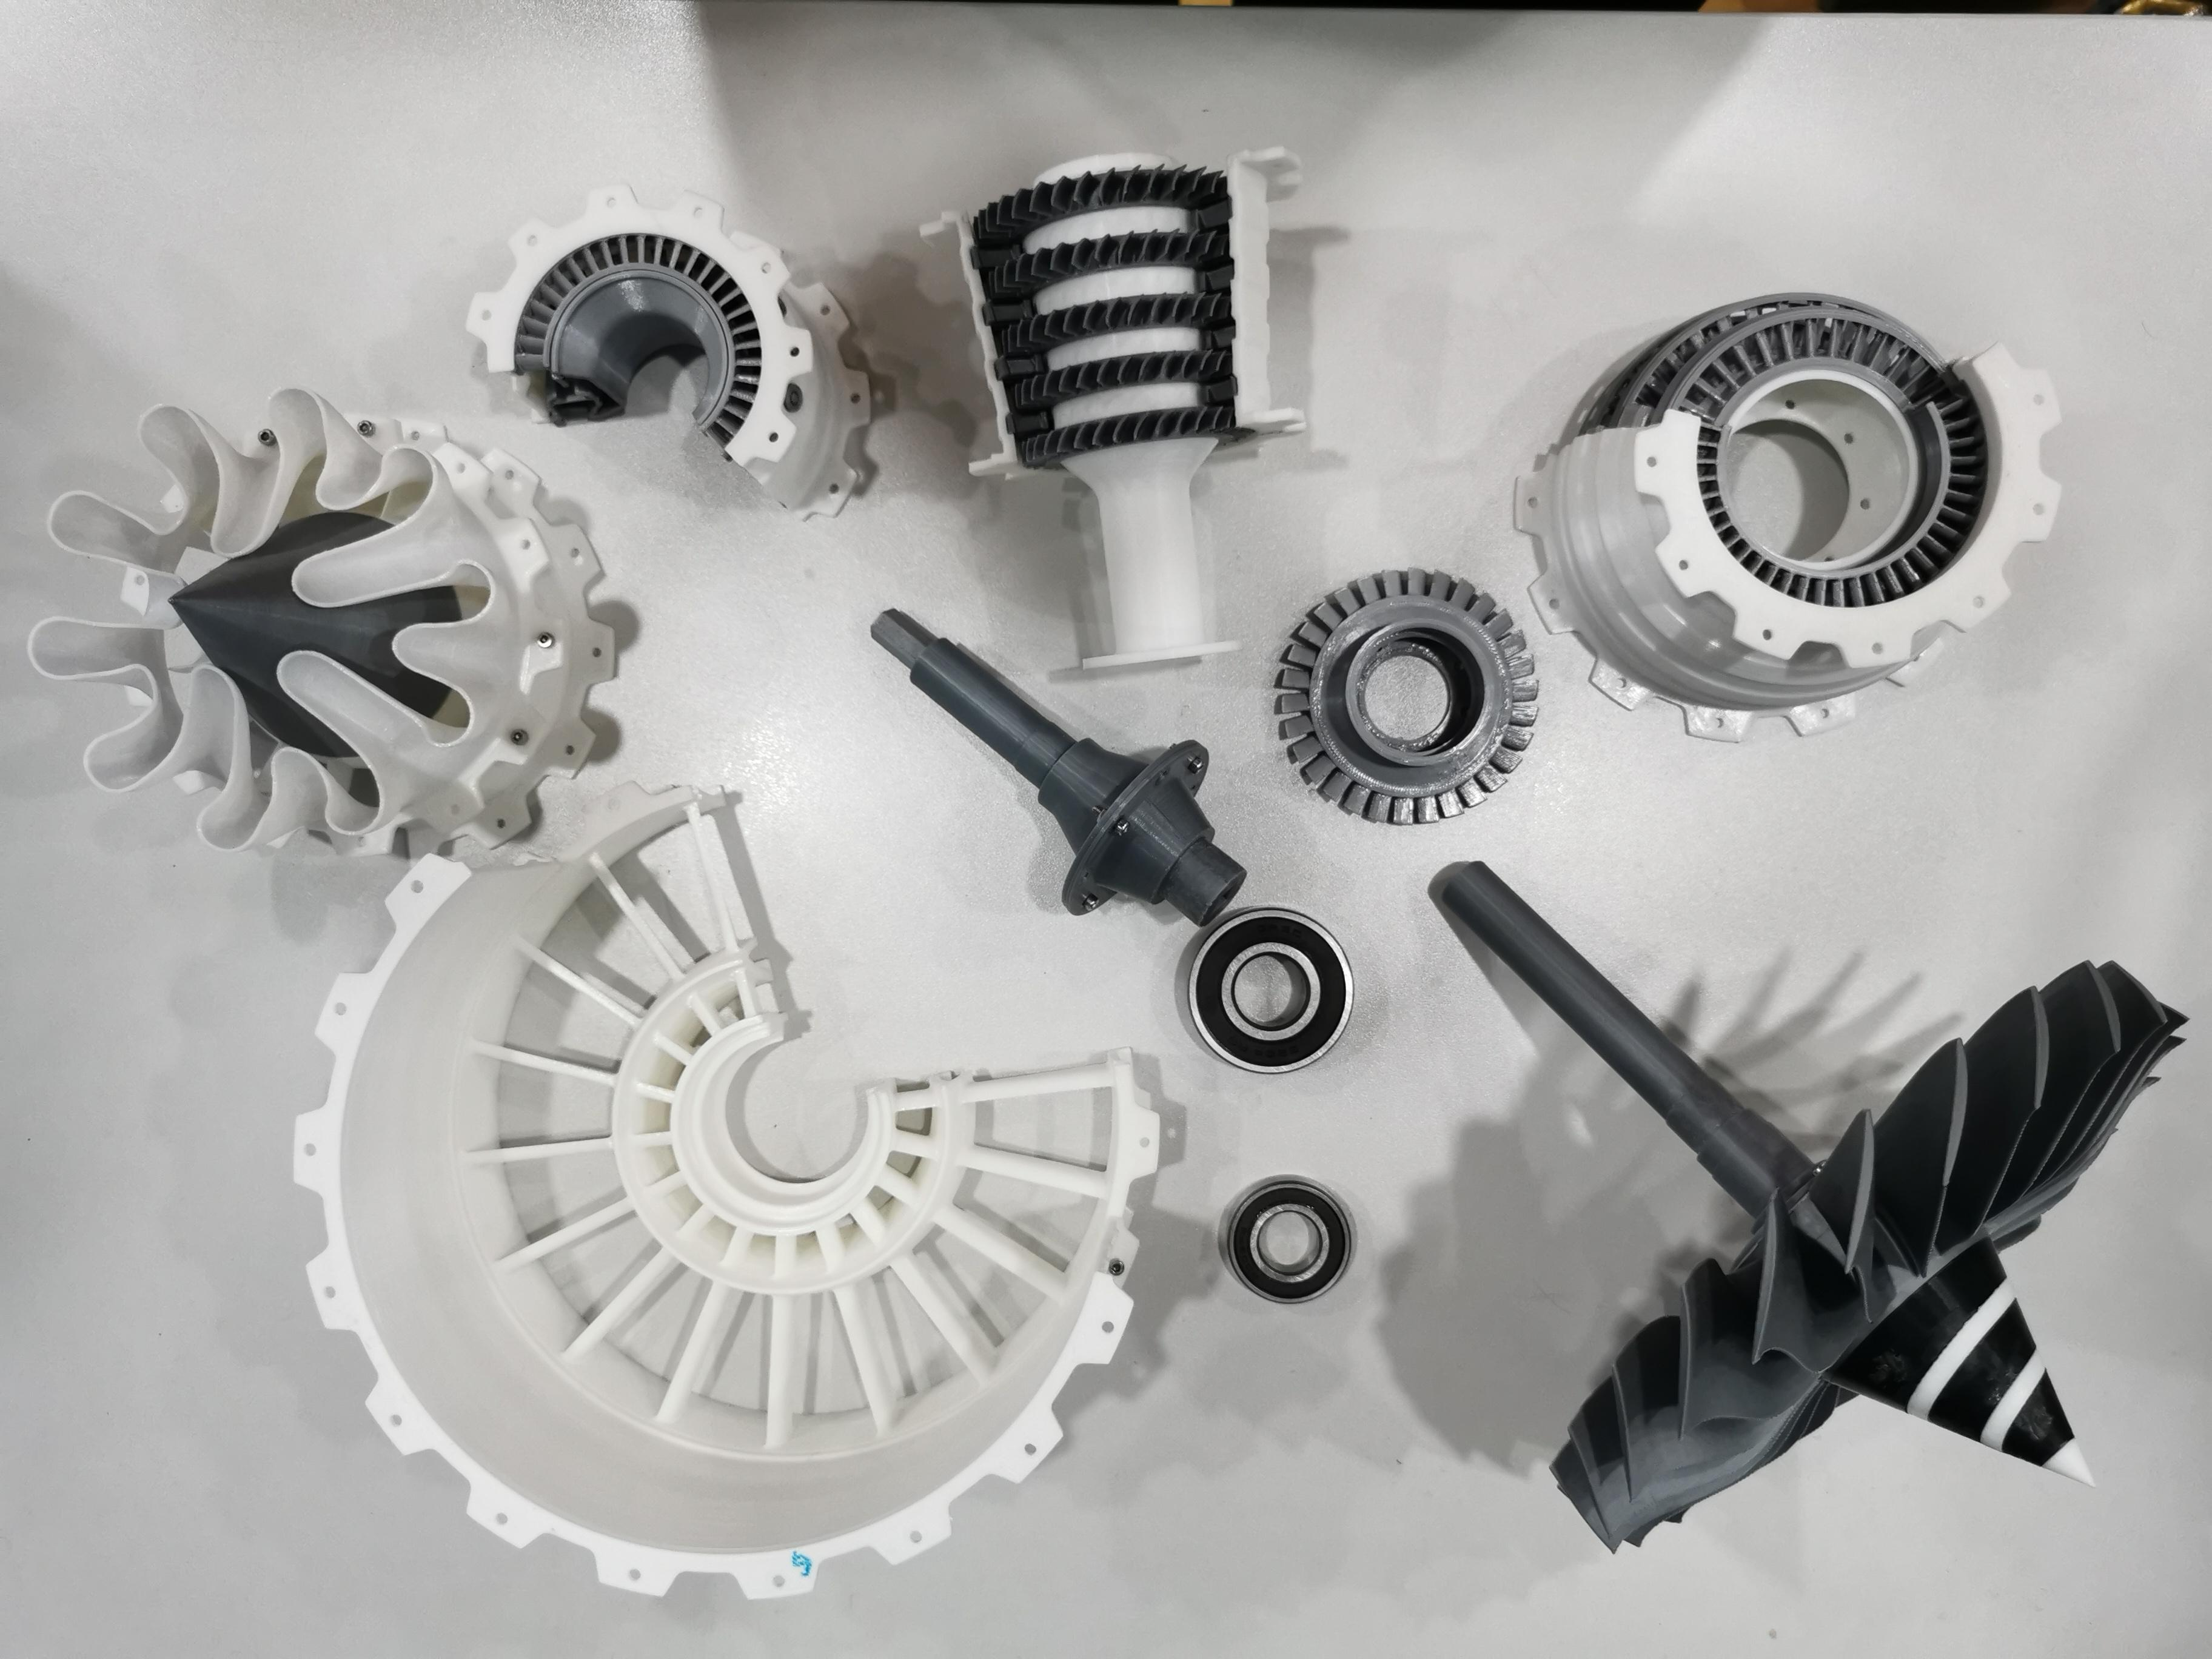Bearing-6003: (1214, 1166, 1367, 1314)
Bearing-6204: (1174, 899, 1374, 1084)
Combustion Section: (451, 171, 887, 528)
Fan Casing and Support: (286, 775, 1170, 1608)
Fan and Low Pressure Shaft: (1418, 852, 2200, 1561)
High Pressure Spool: (914, 127, 1324, 683)
LPT Section: (1507, 274, 2069, 744), (1263, 558, 1547, 829)
Low Pressure Spool: (857, 596, 1258, 938)
Nozzle Section: (24, 378, 625, 866)
